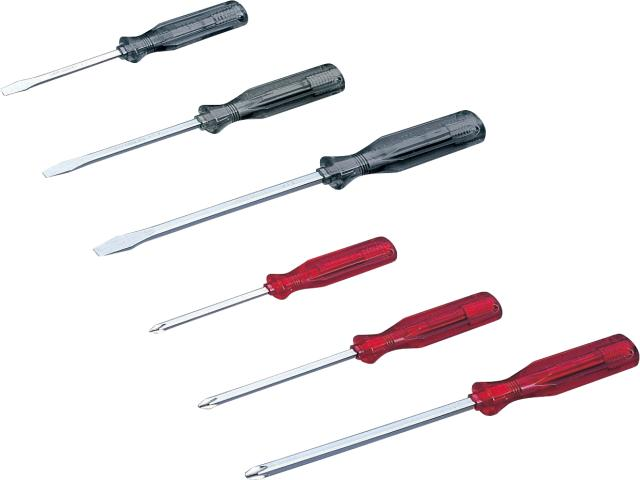Screwdriver: (245, 334, 640, 480), (94, 111, 485, 256), (199, 292, 502, 409), (42, 64, 345, 178), (150, 237, 396, 333), (1, 1, 248, 95)
